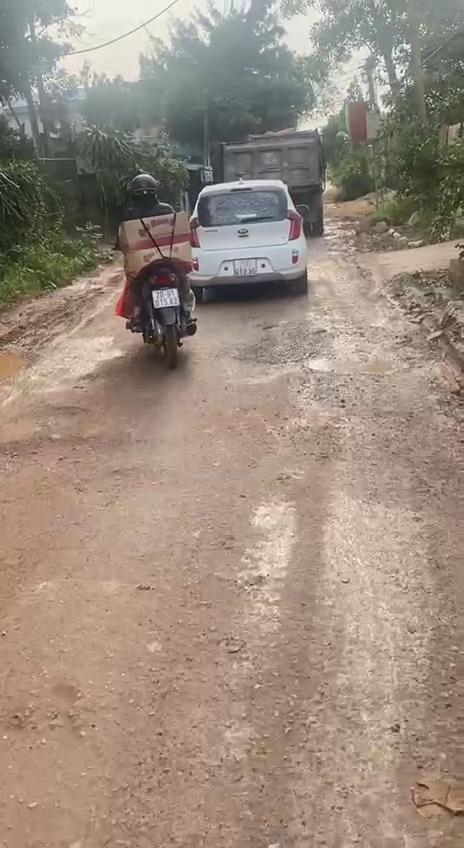pothole: (250, 330, 415, 378), (0, 334, 46, 380)
